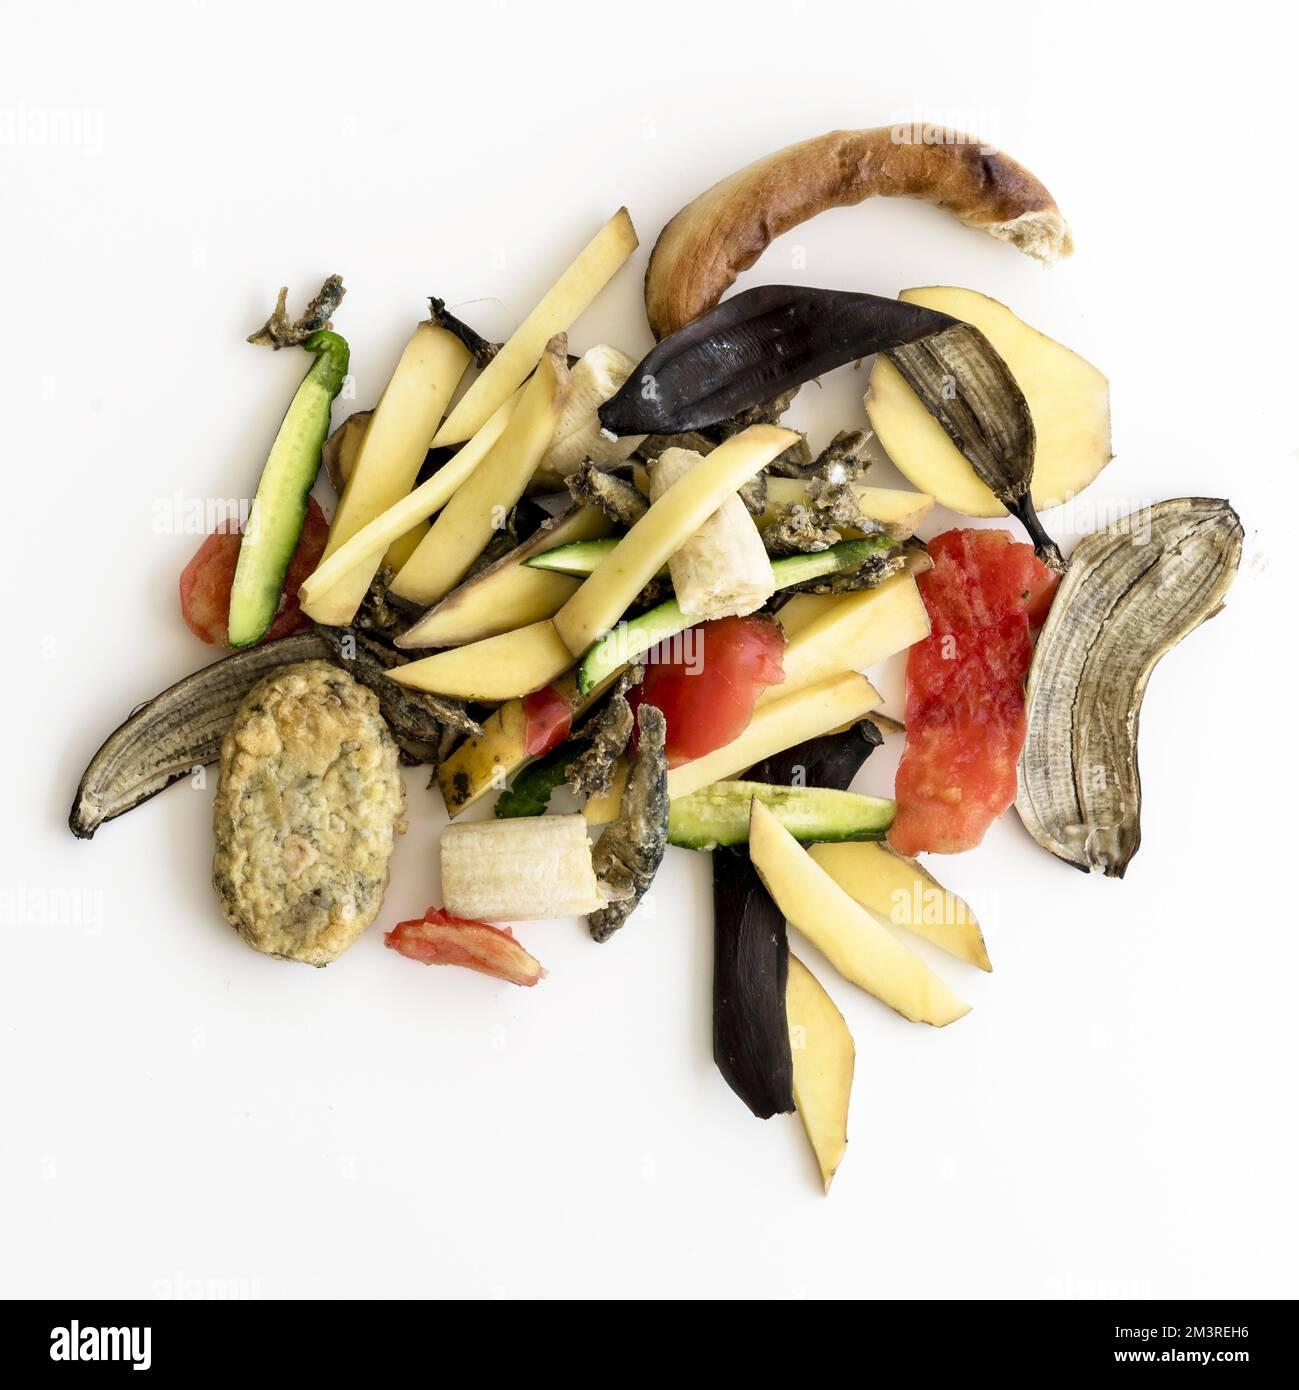organic: (598, 278, 1071, 580), (1015, 471, 1244, 886), (640, 123, 1076, 334), (50, 637, 359, 838), (881, 526, 1060, 854), (209, 664, 398, 967), (299, 320, 479, 625), (381, 339, 571, 609), (223, 277, 355, 641), (708, 827, 803, 1126), (651, 441, 780, 630), (775, 949, 859, 1198), (431, 814, 607, 929), (657, 774, 900, 847), (389, 898, 548, 985)
